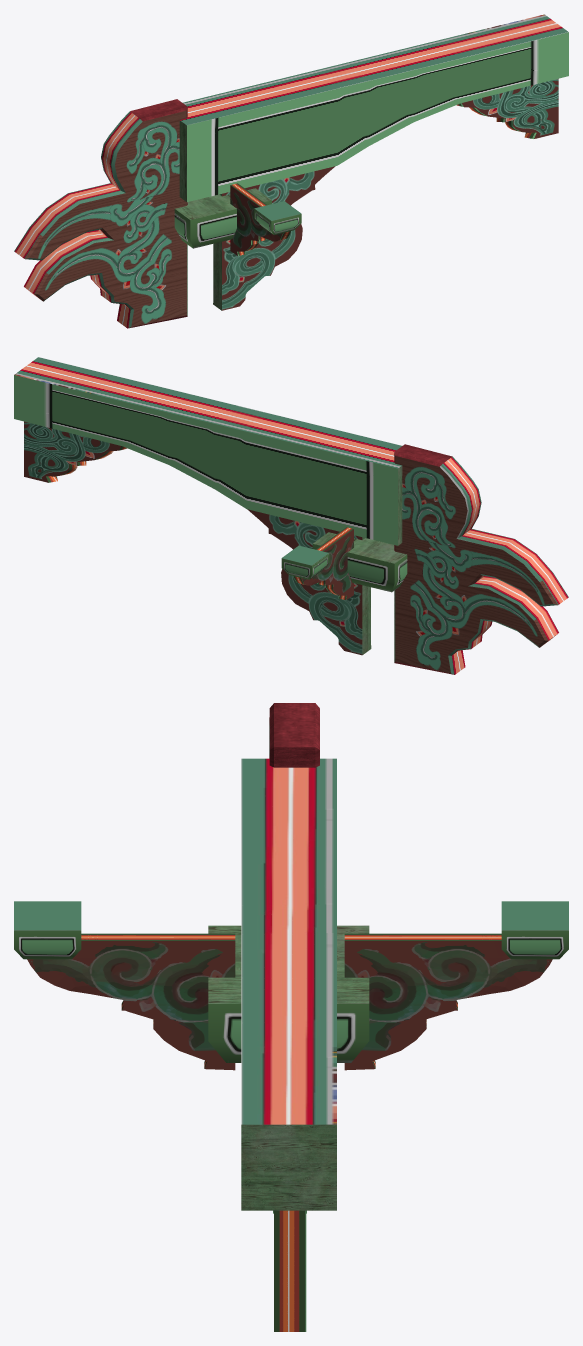
Rendered from SM_R_Beam_5.fbx.
3 renders of one model, top to bottom at view 1: azimuth 30°, elevation 25°; view 2: azimuth 150°, elevation 25°; view 3: azimuth 270°, elevation 25°, orthographic. The views are drawn at different scales.
Parts seen in each view (by area): view 1: SM_R_Beam_5; view 2: SM_R_Beam_5; view 3: SM_R_Beam_5.
Part boxes in pixels (box(x1,y1,x2,y2)): SM_R_Beam_5: box(14, 14, 568, 328); SM_R_Beam_5: box(14, 357, 568, 674); SM_R_Beam_5: box(14, 703, 568, 1331).
Size of the model in its own units: 307 by 140 by 116.
Materials: 6 (6 with a texture image).
